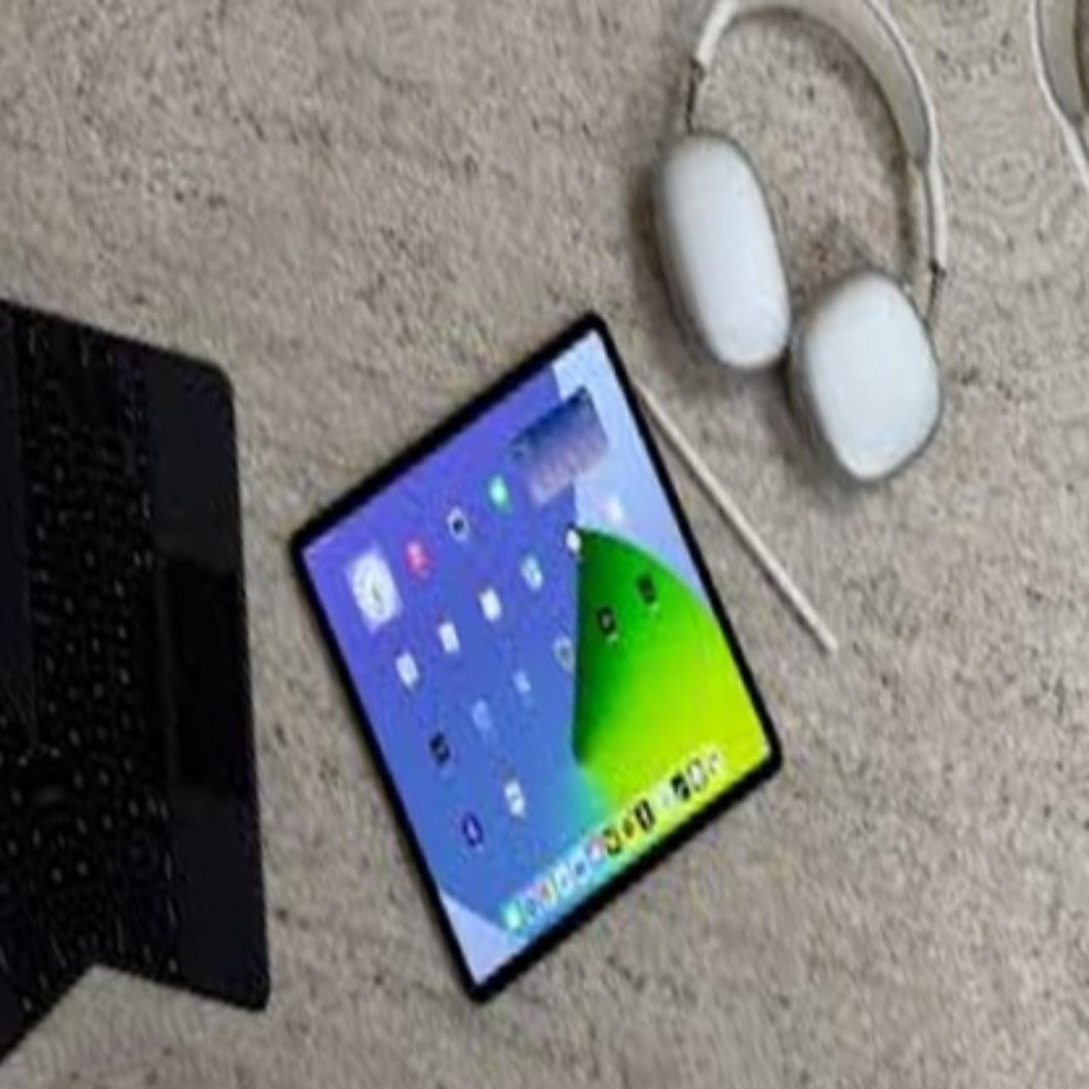Tablet_PC: (236, 285, 858, 1039)
